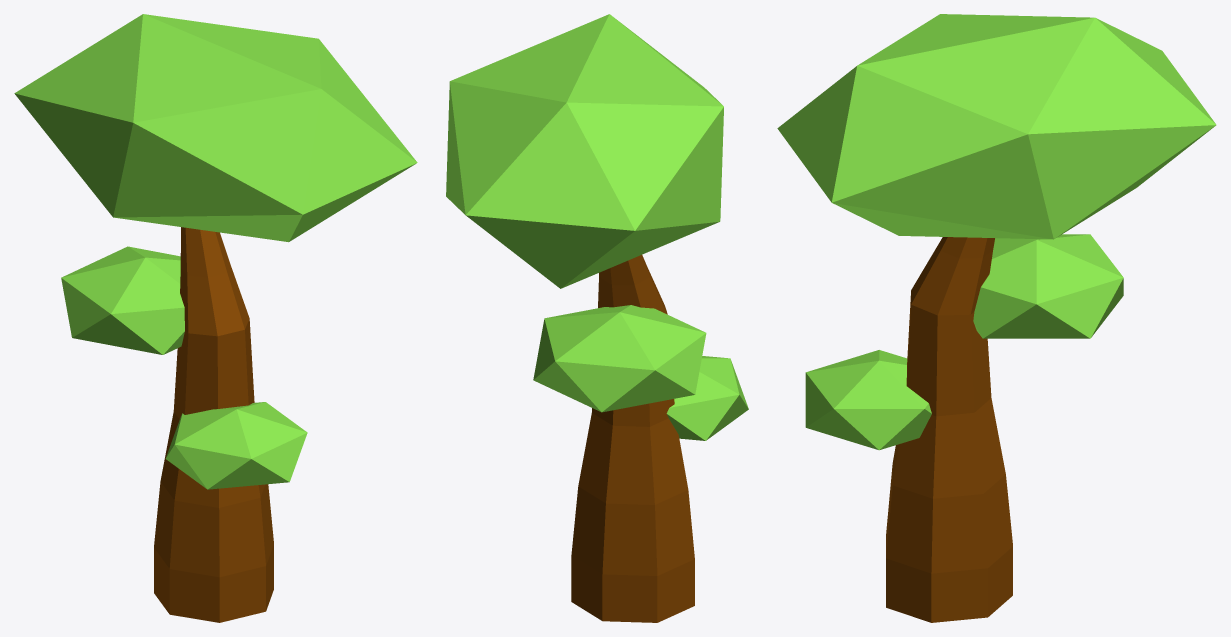
The model's file is agac1.fbx.
3 renders of one model, left to right at view 1: azimuth 30°, elevation 25°; view 2: azimuth 150°, elevation 25°; view 3: azimuth 270°, elevation 25°, orthographic. The views are drawn at different scales.
Parts seen in each view (by area): view 1: Cylinder; view 2: Cylinder; view 3: Cylinder.
Boxes of the visible parts, x1,y1,x2,y2 form: Cylinder: (14,14,417,622); Cylinder: (446,14,748,622); Cylinder: (777,14,1216,622).
Bounding box in the file's own units: 307 × 623 × 431.
